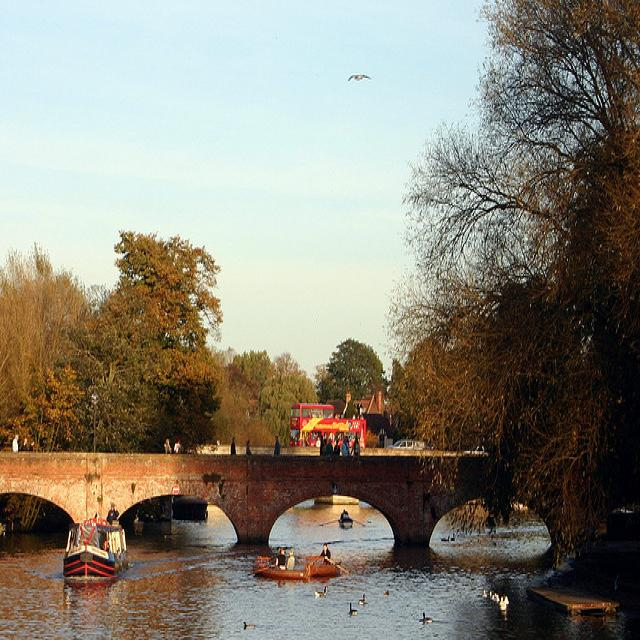Vehicle: (291, 404, 366, 450), (387, 438, 425, 450), (465, 446, 487, 456)
